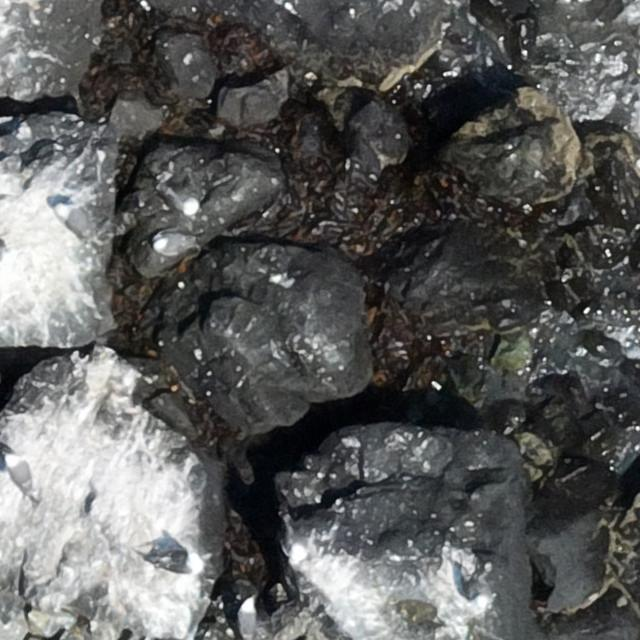umineko: (55, 202, 84, 238), (156, 550, 198, 572), (469, 574, 491, 613), (167, 189, 198, 215), (9, 456, 30, 490), (237, 602, 255, 637), (155, 235, 184, 254)
